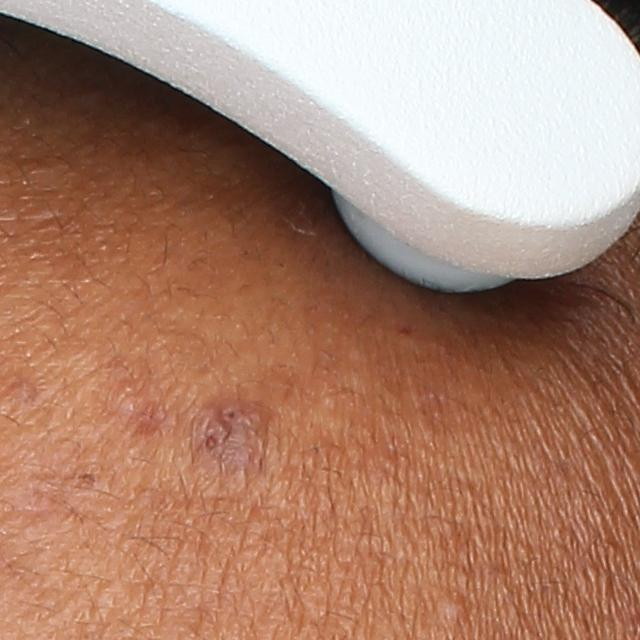comedo: (439, 591, 473, 624)
